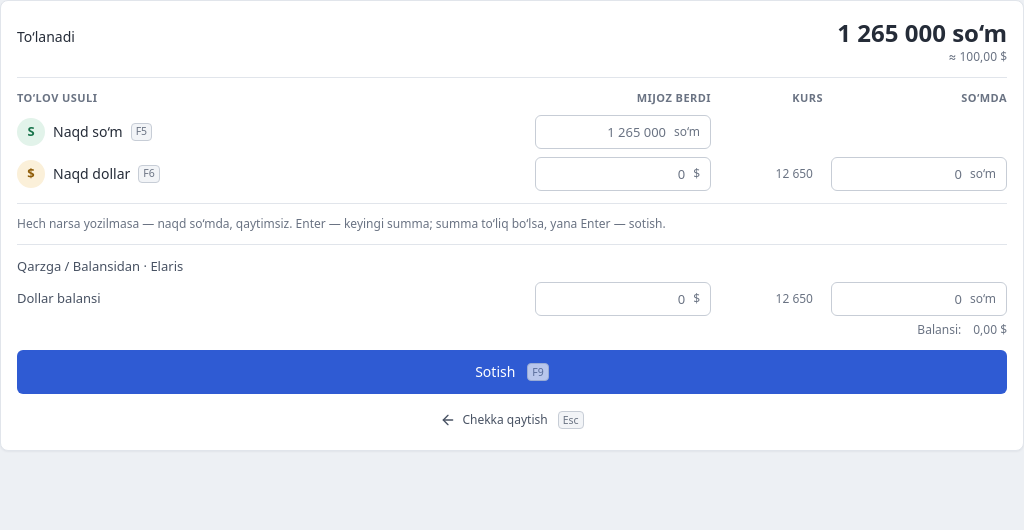
Test: a sale on a customer’s account › follows the day’s rate when the account’s sum is typed again
Type "40" into the field named "Balansidan · Elaris" at (613, 299), box [536, 283, 689, 315]
Then press Tab
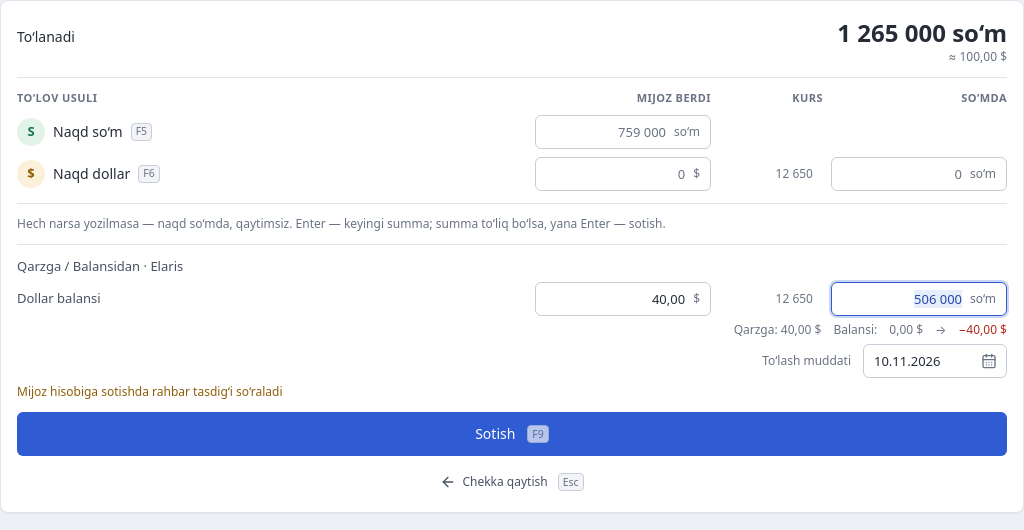
Replace the text in the field named "Balansidan · Elaris" with "50" at (613, 299), box [536, 283, 689, 315]
Then press Tab
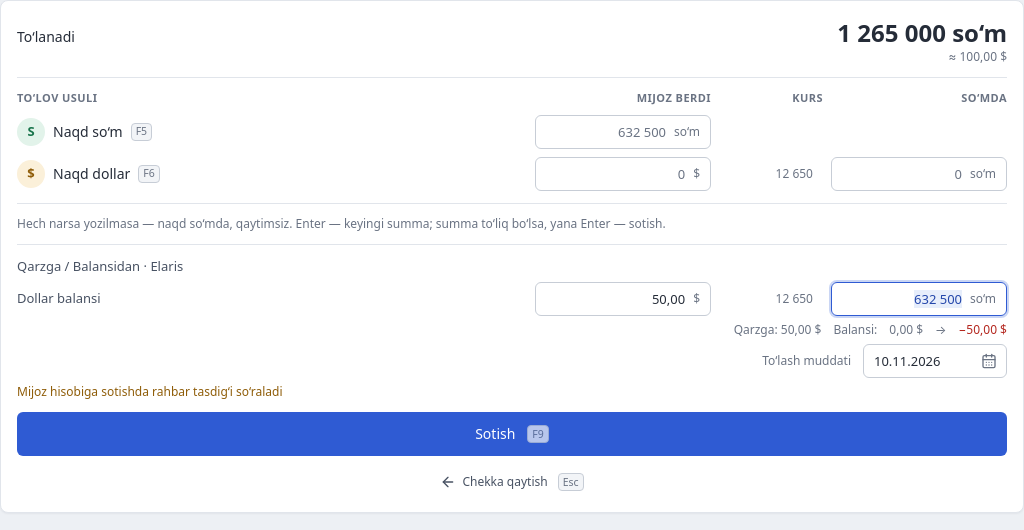
Note: The sale's money typed alone asks how many dollars it is, and the rate says.
Clear the field named "Balansidan · Elaris" at (613, 299), box [536, 283, 689, 315]
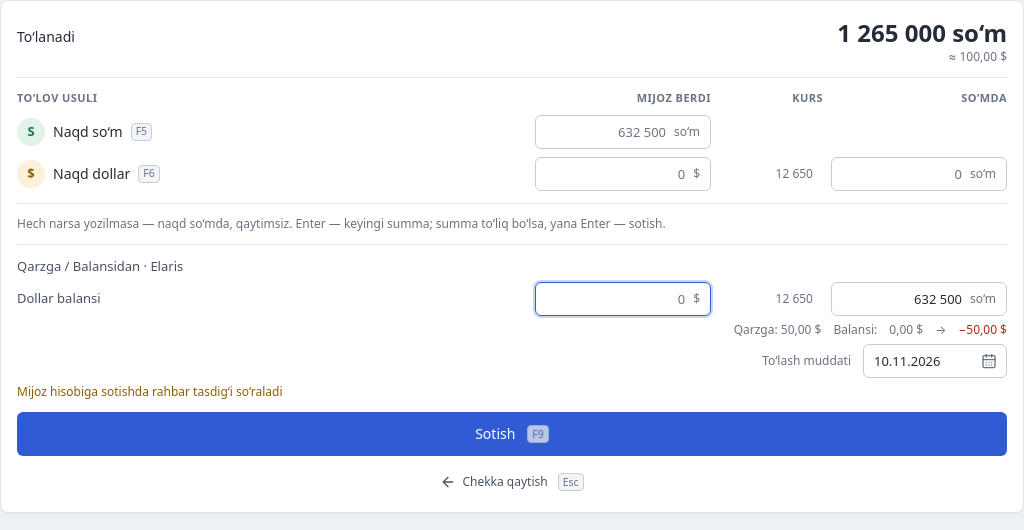
Press Tab
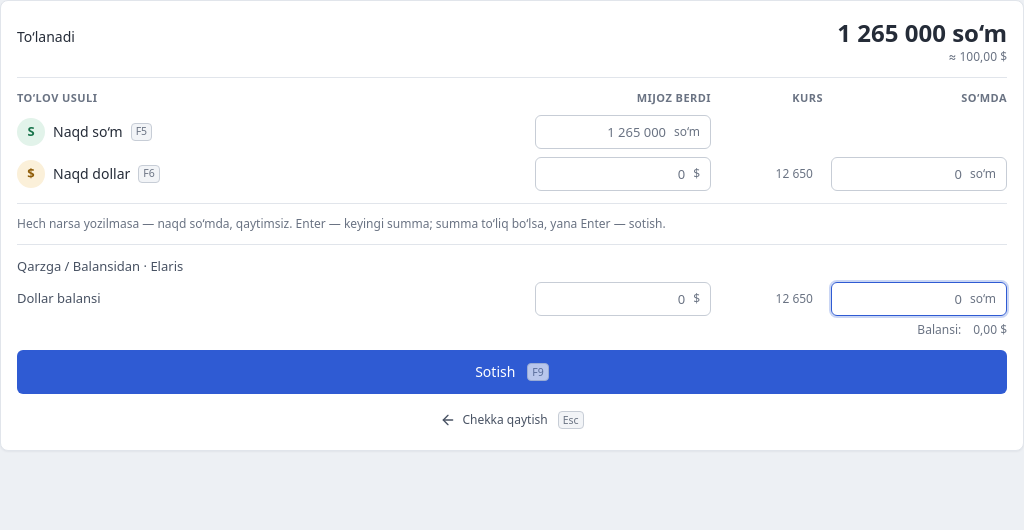
Type "253000" into the field with placeholder "0" in the row of "Dollar balansi" at (899, 299), box [832, 283, 966, 315]
Then press Tab
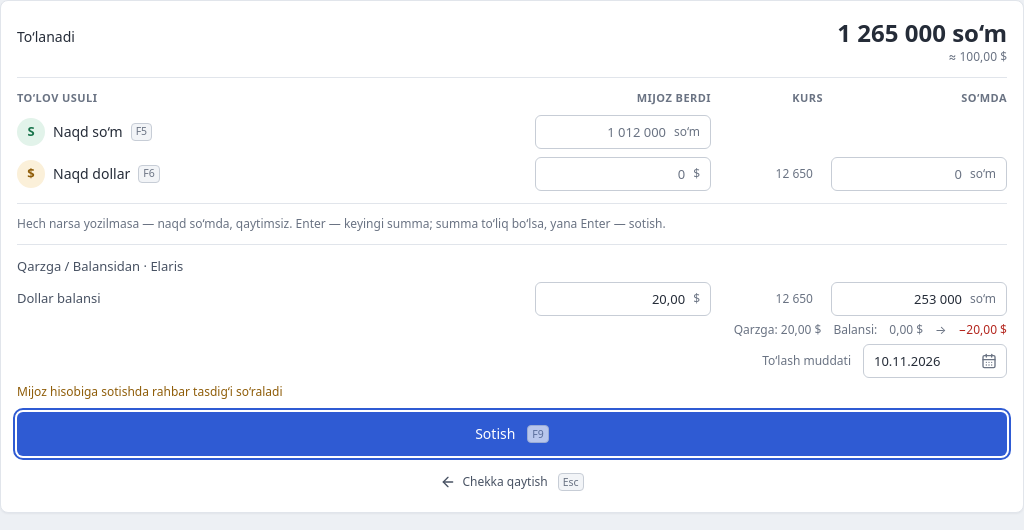
expect the field named "Balansidan · Elaris" holds "20,00": met, box [536, 283, 689, 315]
